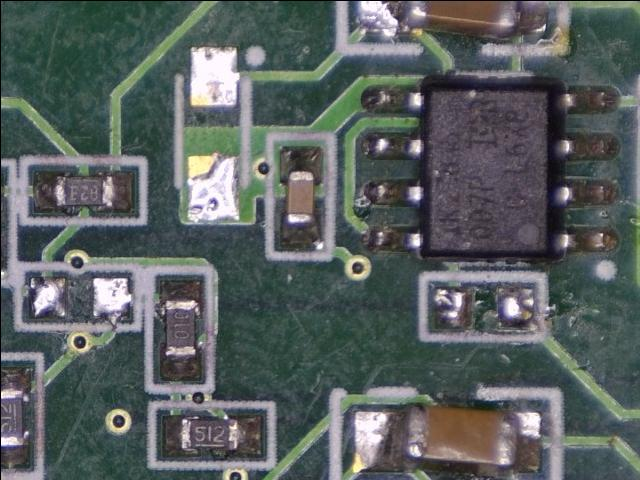Incorrect_installation: (353, 403, 543, 474), (358, 1, 551, 39)
